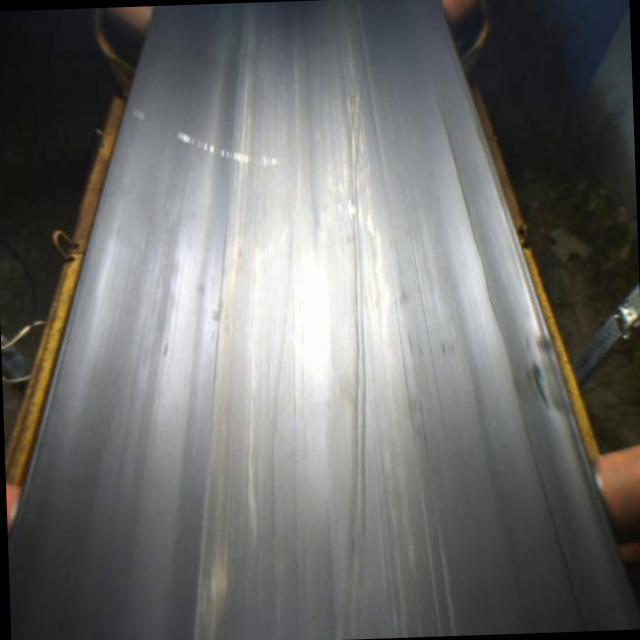Tear: (417, 99, 589, 624), (320, 128, 382, 562)
